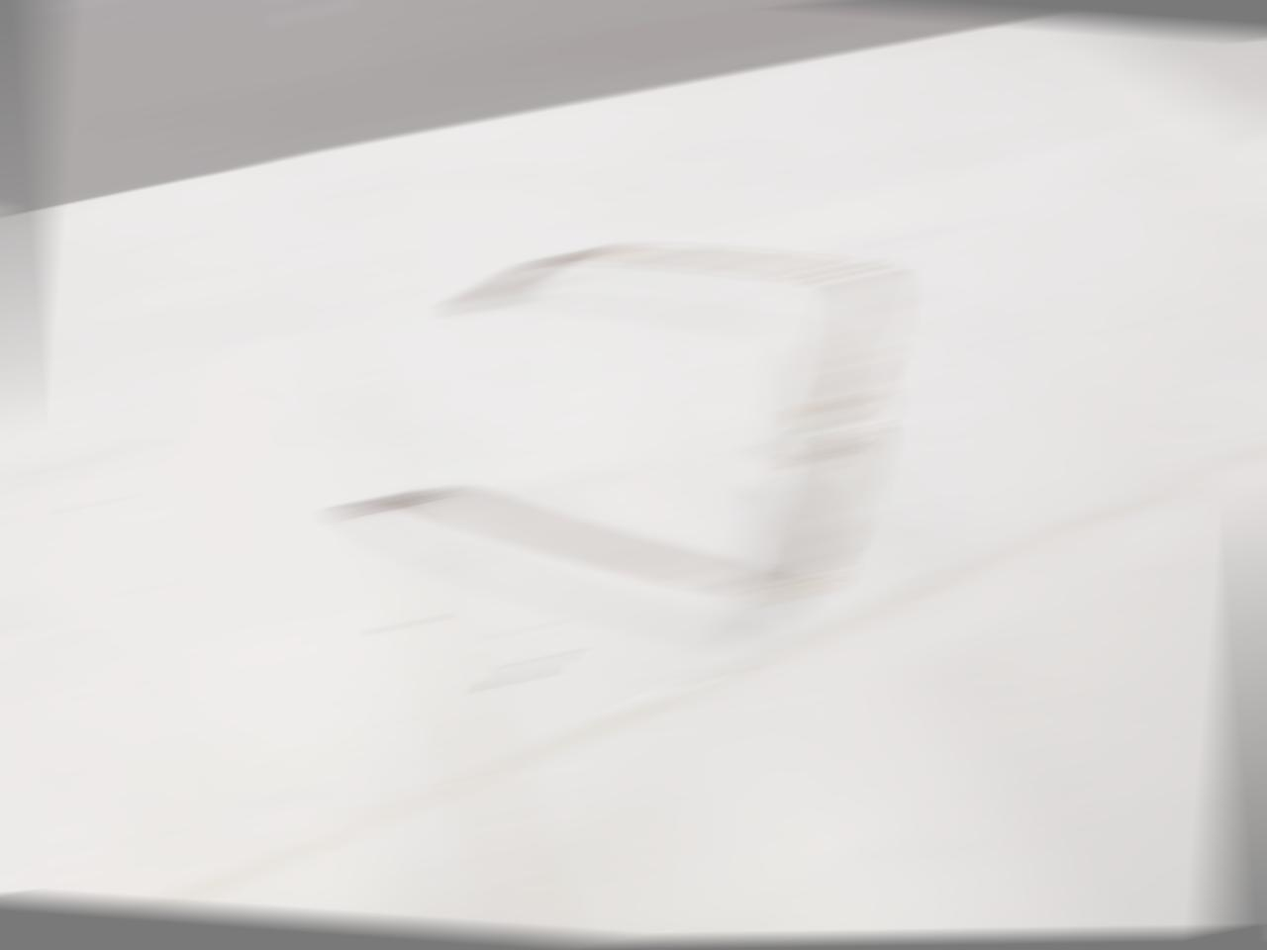glasses: (345, 210, 930, 626)
